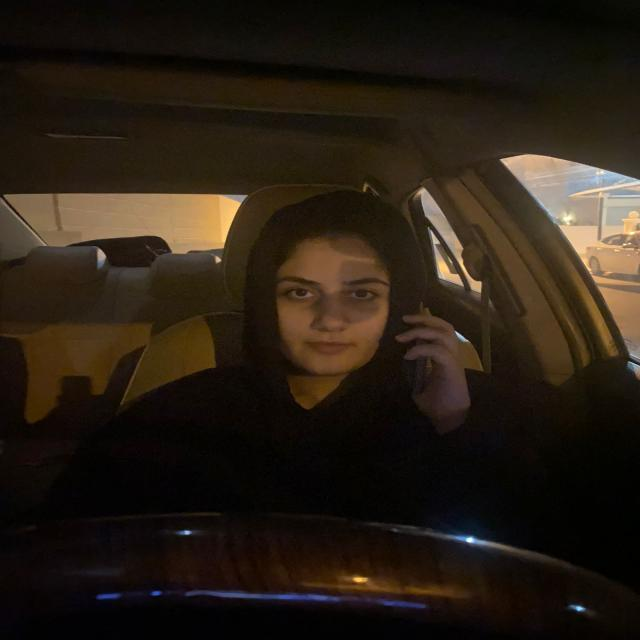mobile: (397, 295, 436, 402)
person: (281, 210, 389, 376)
